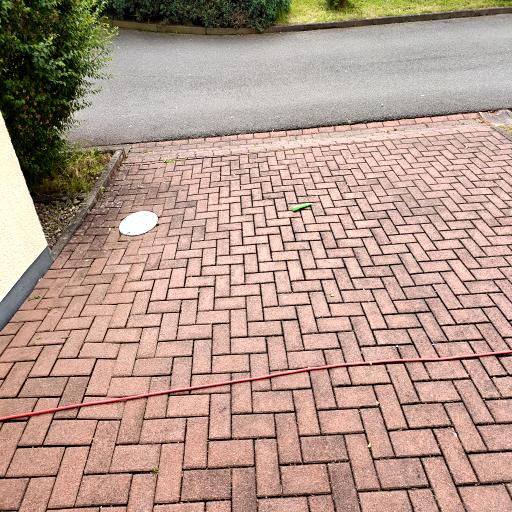Probe-Detection: (292, 203, 311, 212)
